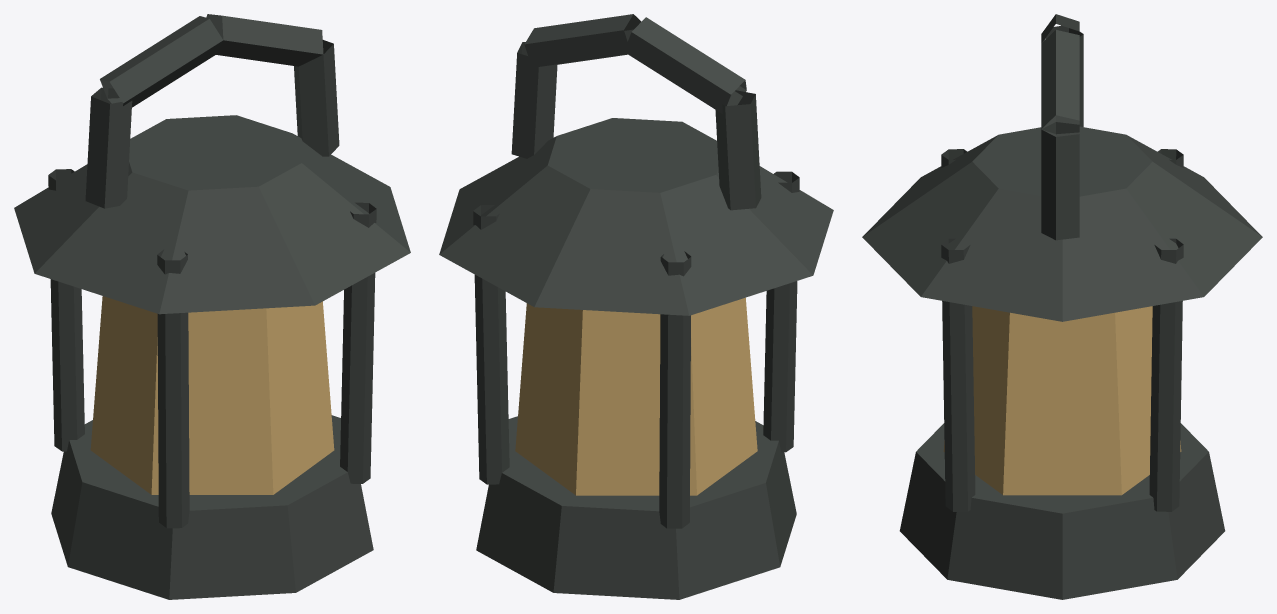
The picture shows the model from 3 angles, left to right: view 1: azimuth 30°, elevation 25°; view 2: azimuth 150°, elevation 25°; view 3: azimuth 270°, elevation 25°; orthographic projection. The views are drawn at different scales.
Parts seen in each view (by area): view 1: C15_矮身油灯; view 2: C15_矮身油灯; view 3: C15_矮身油灯.
Boxes of the visible parts, x1,y1,x2,y2 form: C15_矮身油灯: (14, 14, 410, 599); C15_矮身油灯: (439, 14, 833, 599); C15_矮身油灯: (862, 14, 1262, 599).
Bounding box in the file's own units: 0.32 × 0.4444 × 0.32.
